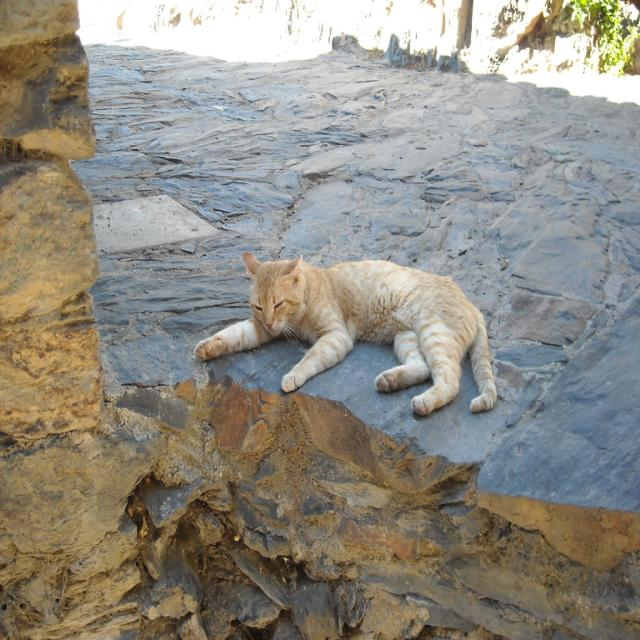Cat: (190, 248, 502, 425)
